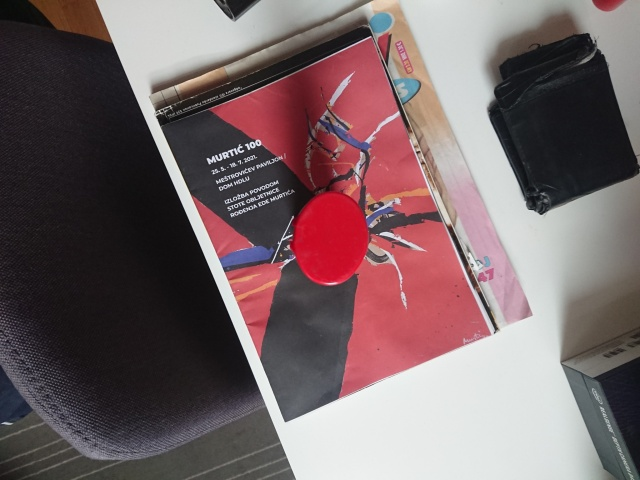Kotanyi Curry Spices Mix 70g: (286, 189, 373, 289)
